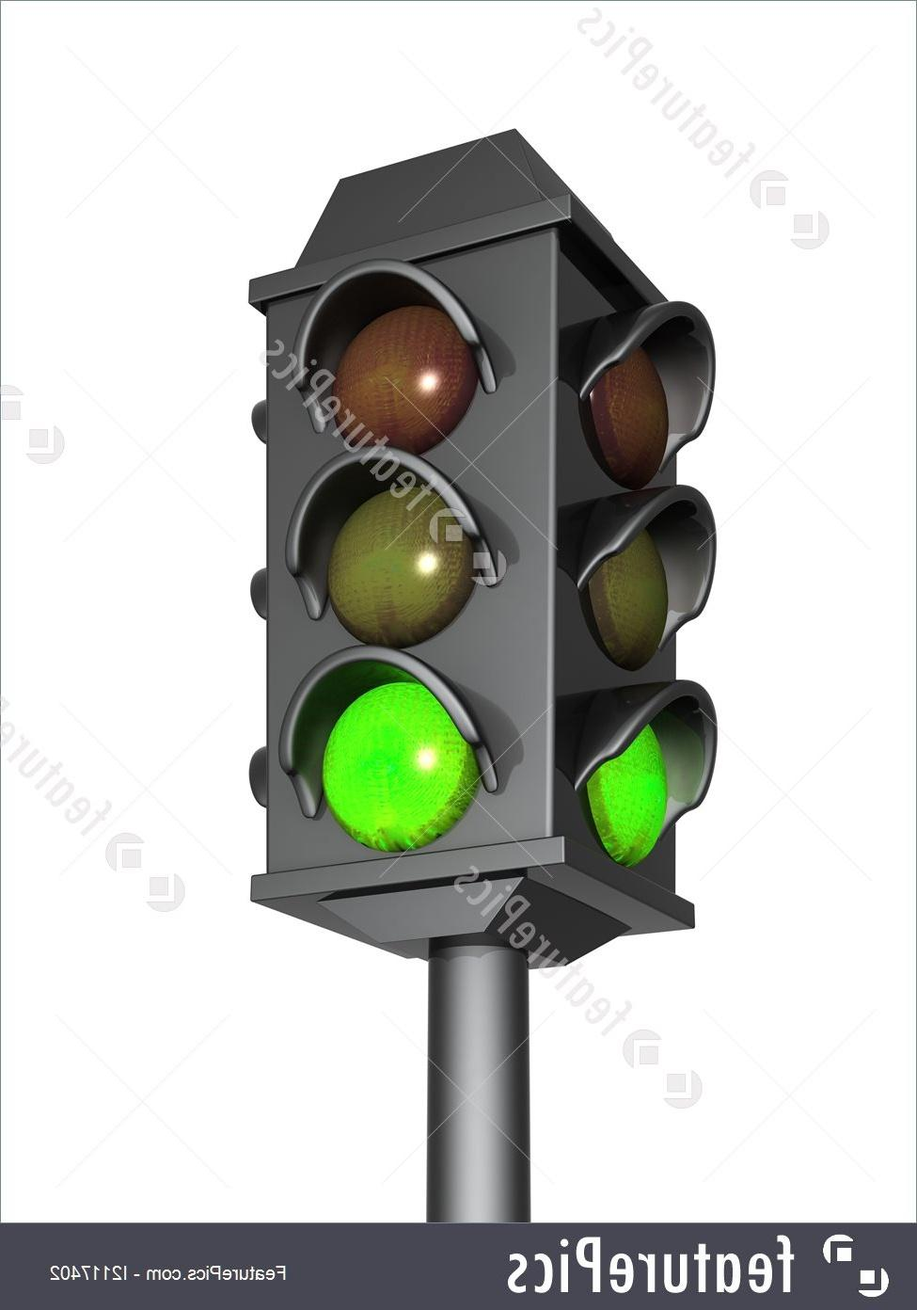Traffic light green: (241, 251, 561, 881)
